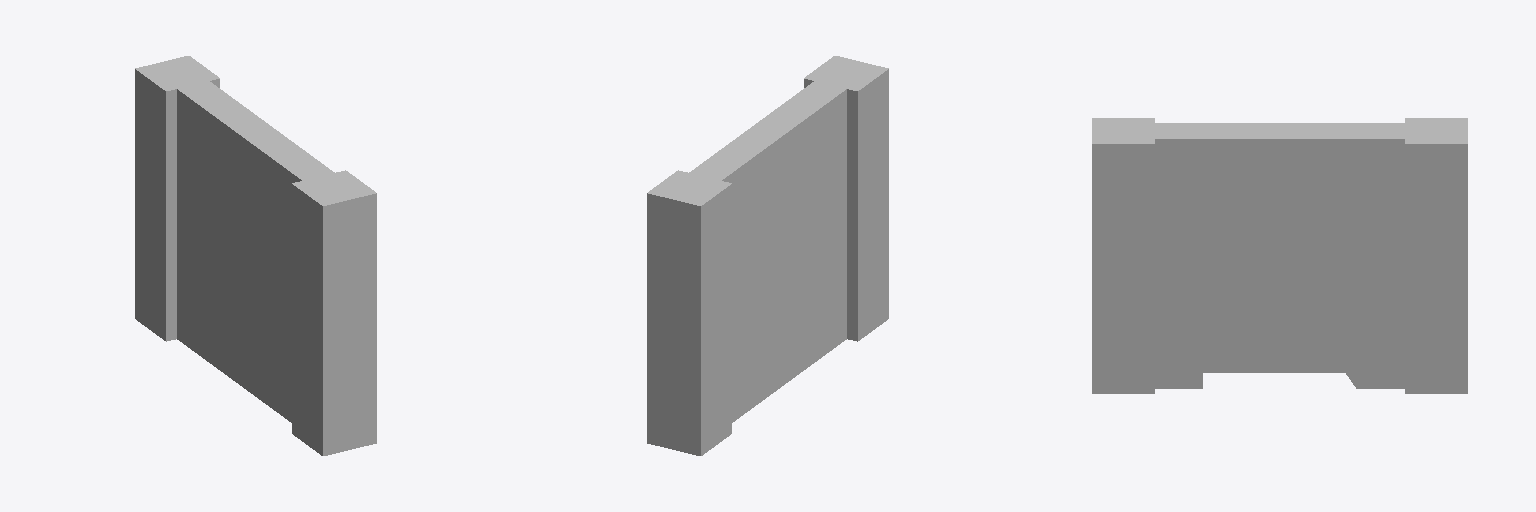
Rendered from Grey_Door_Square_01.obj.
3 views of the same model, side by side, from view 1: azimuth 30°, elevation 25°; view 2: azimuth 150°, elevation 25°; view 3: azimuth 270°, elevation 25° (orthographic).
Parts seen in each view (by area): view 1: Mesh1 Grey_Door_Square Model; view 2: Mesh1 Grey_Door_Square Model; view 3: Mesh1 Grey_Door_Square Model.
Part boxes in pixels (left/top/right/bottom): Mesh1 Grey_Door_Square Model: left=135, top=56, right=376, bottom=455; Mesh1 Grey_Door_Square Model: left=647, top=56, right=888, bottom=455; Mesh1 Grey_Door_Square Model: left=1092, top=118, right=1467, bottom=393.
Size of the model in its own units: 0.5 by 2.2 by 3.